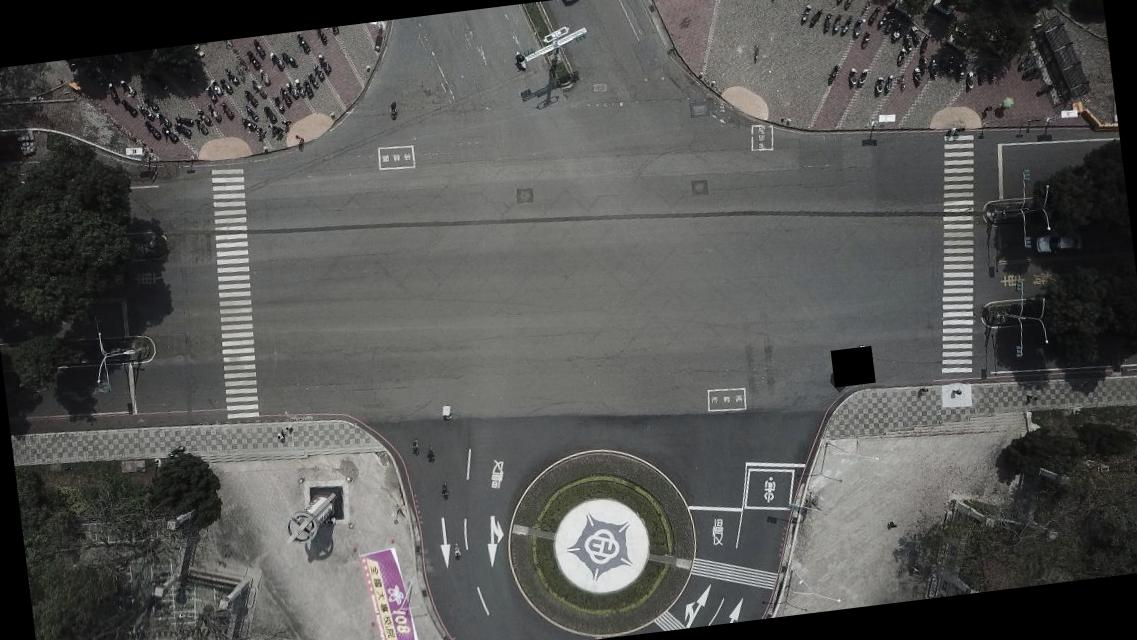vehicle: (1032, 230, 1085, 254)
